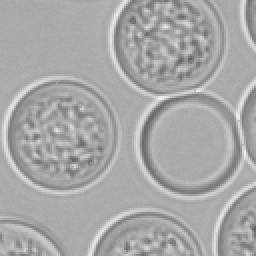picoshell: (2, 76, 118, 190), (134, 88, 242, 198), (108, 0, 226, 96), (88, 208, 204, 254), (212, 182, 254, 254), (0, 214, 60, 254), (236, 78, 254, 168), (240, 0, 254, 50)
